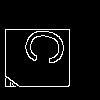C: (22, 25, 76, 70)
